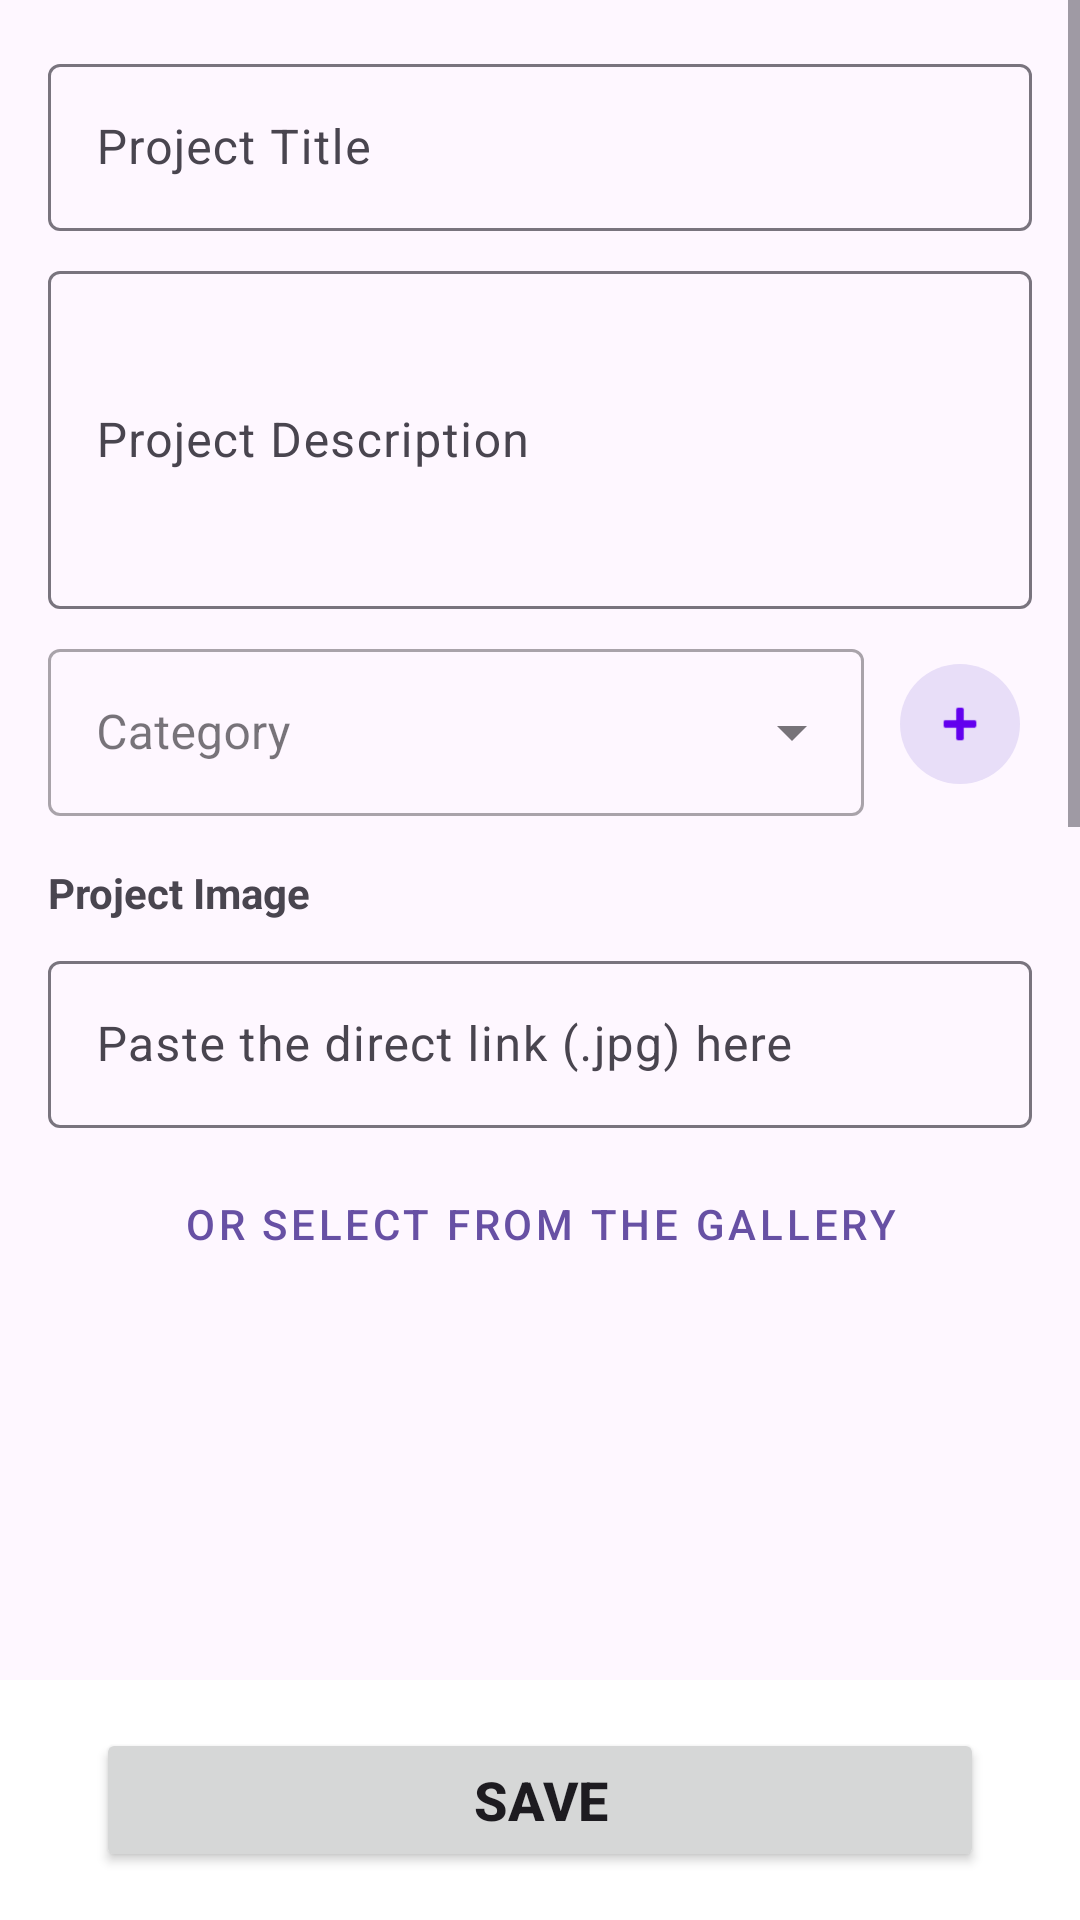

Icon bounding boxes for this 1080w x 1920h phone screenshot, format (x1, y1, x2, y2):
add: (900, 664, 1020, 784)
